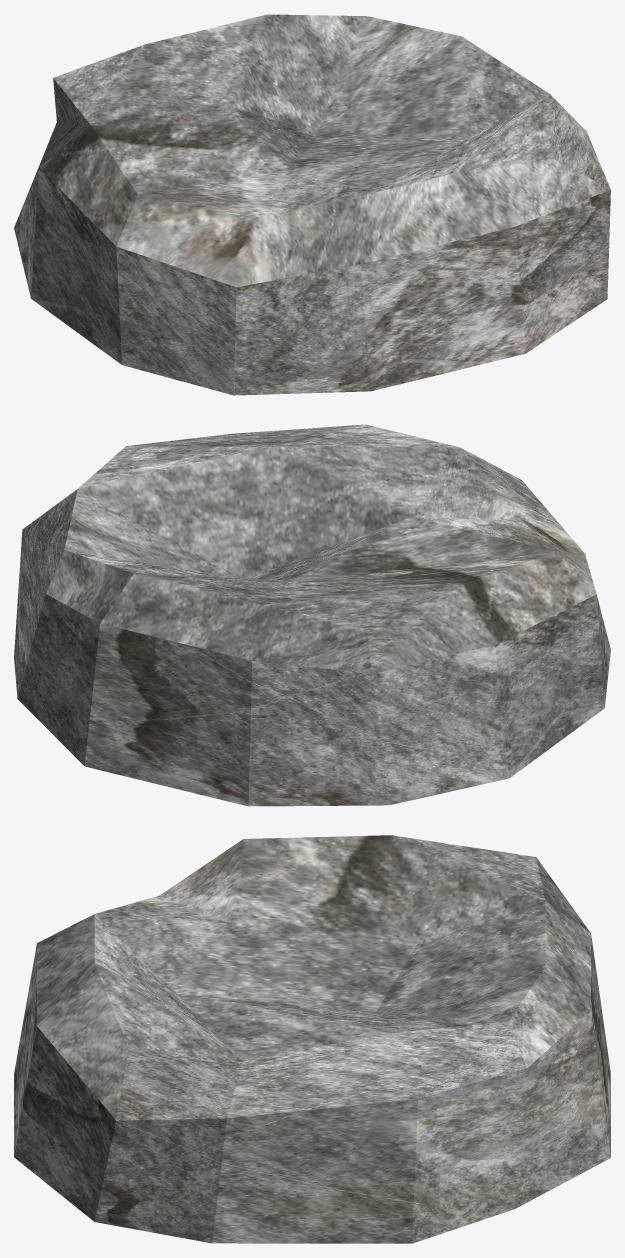
File: M_Stone.fbx
3 renders of one model, top to bottom at view 1: azimuth 30°, elevation 25°; view 2: azimuth 150°, elevation 25°; view 3: azimuth 270°, elevation 25°, orthographic. The views are drawn at different scales.
Visible parts, largest first — view 1: M_Stone; view 2: M_Stone; view 3: M_Stone.
Part boxes in pixels (<box>): M_Stone: <box>14,14,610,395</box>; M_Stone: <box>14,424,610,806</box>; M_Stone: <box>14,835,610,1243</box>.
Bounding box in the file's own units: 32 × 10.83 × 31.9.
